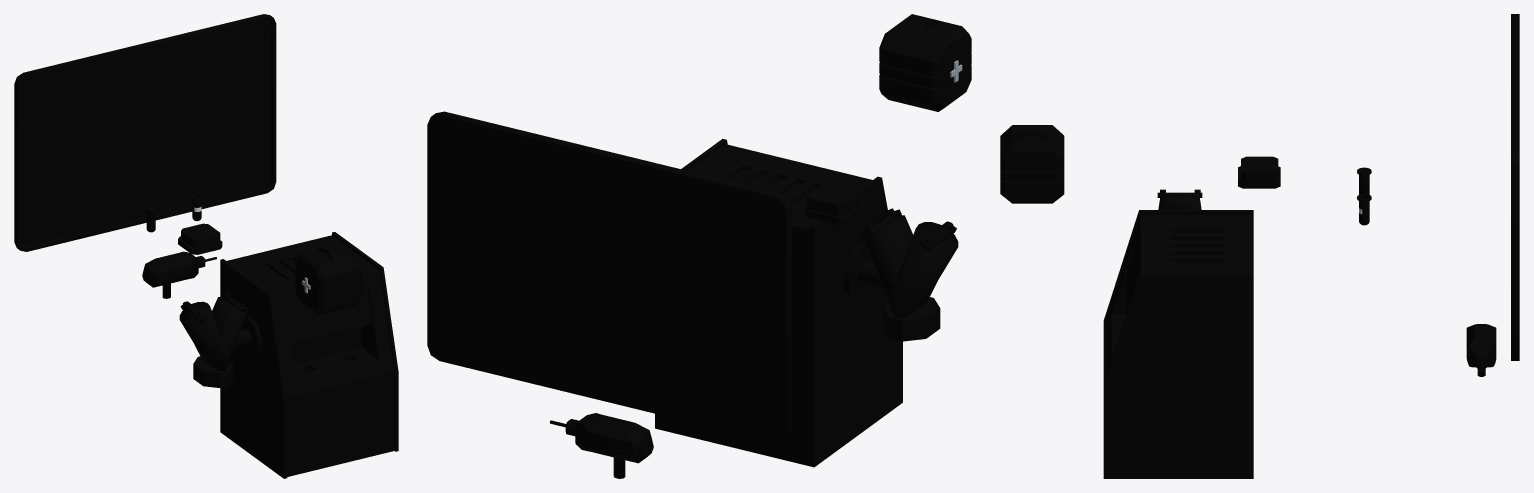
Rendered from Something.fbx.
3 renders of one model, left to right at view 1: azimuth 30°, elevation 25°; view 2: azimuth 150°, elevation 25°; view 3: azimuth 270°, elevation 25°, orthographic. The views are drawn at different scales.
Parts seen in each view (by area): view 1: Cube.294, Cube.295, AidKit, Cube.296, Cube.297; view 2: Cube.294, Cube.295, AidKit, Cube.296, Cube.297, Cube.301; view 3: Cube.295, AidKit, Cube.294, Cube.296, Cube.297.
Boxes of the visible parts, box(x1,y1,x2,y2) form: Cube.294: box(14, 14, 276, 251); Cube.295: box(179, 232, 398, 478); AidKit: box(295, 244, 361, 314); Cube.296: box(142, 251, 216, 298); Cube.297: box(181, 223, 220, 248); Cube.294: box(427, 111, 791, 442); Cube.295: box(655, 138, 958, 467); AidKit: box(879, 14, 971, 111); Cube.296: box(549, 413, 653, 478); Cube.297: box(807, 182, 861, 216); Cube.301: box(805, 199, 866, 225); Cube.295: box(1103, 189, 1253, 478); AidKit: box(1000, 125, 1064, 203); Cube.294: box(1511, 14, 1519, 360); Cube.296: box(1466, 324, 1496, 376); Cube.297: box(1241, 156, 1278, 182).
Bounding box in the file's own units: 1.8 × 1.98 × 2.66.
